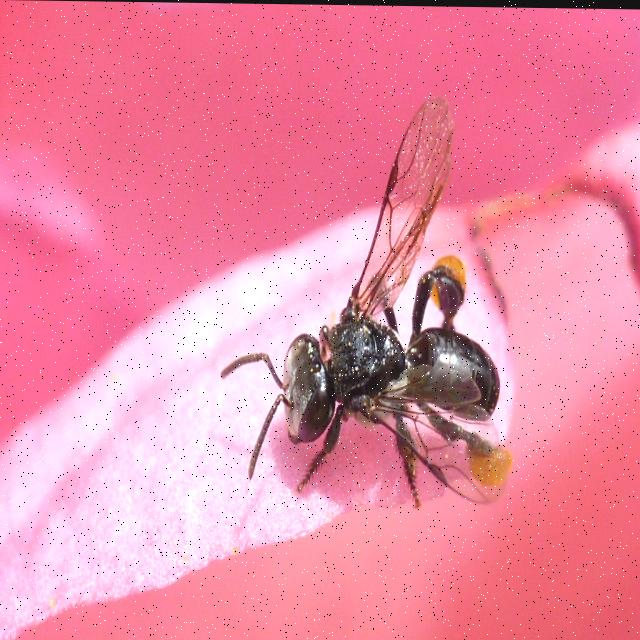Allodapula: (248, 61, 526, 554)
